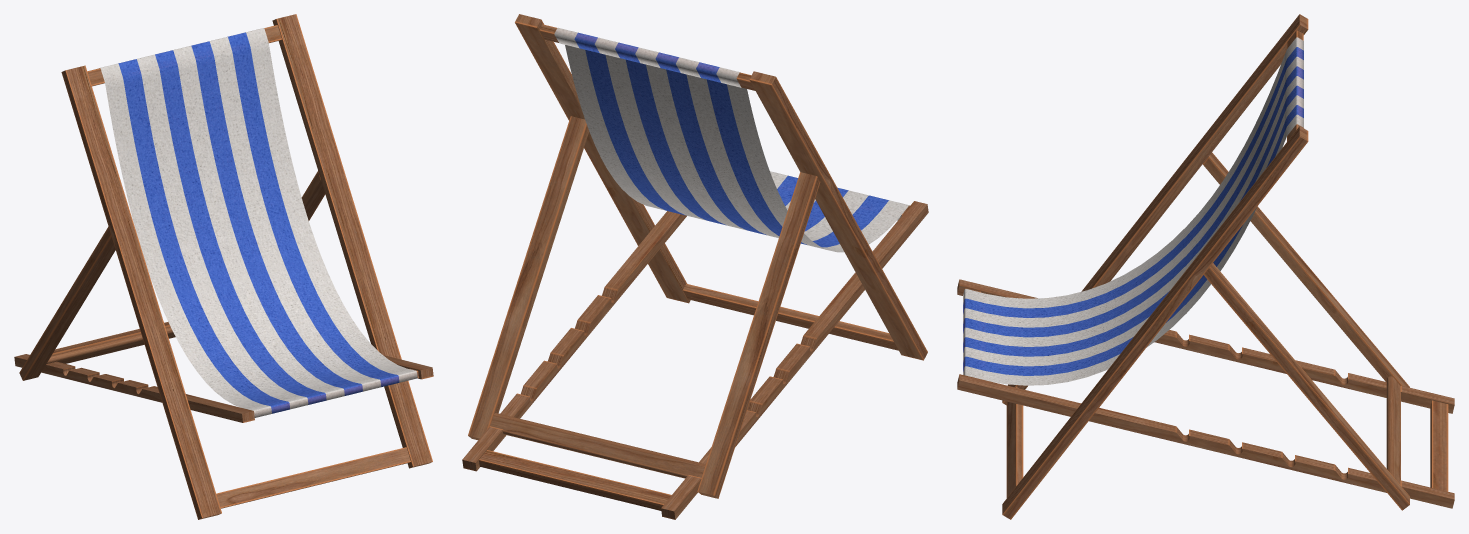
Rendered from Chair2.obj.
3 views of the same model, side by side, from view 1: azimuth 30°, elevation 25°; view 2: azimuth 150°, elevation 25°; view 3: azimuth 270°, elevation 25° (orthographic). The views are drawn at different scales.
Parts seen in each view (by area): view 1: Plane_Color3_0, Cube.001_Color3_0, Cube.006_Color3_0, Cube.004_Color3_0, Cube_Color3_0, Cylinder_Color3_0, Cube.005_Color3_0; view 2: Plane_Color3_0, Cube.006_Color3_0, Cube.001_Color3_0, Cube.004_Color3_0, Cylinder_Color3_0, Cube.005_Color3_0, Cube_Color3_0; view 3: Plane_Color3_0, Cube.001_Color3_0, Cube.004_Color3_0, Cube.006_Color3_0, Cube.005_Color3_0, Cube_Color3_0, Cylinder_Color3_0.
Boxes of the visible parts, box(x1,y1,x2,y2) form: Plane_Color3_0: box(99, 28, 417, 417); Cube.001_Color3_0: box(61, 14, 432, 519); Cube.006_Color3_0: box(19, 171, 325, 380); Cube.004_Color3_0: box(14, 354, 433, 422); Cube_Color3_0: box(216, 447, 410, 508); Cylinder_Color3_0: box(46, 327, 175, 363); Cube.005_Color3_0: box(51, 322, 170, 355); Plane_Color3_0: box(554, 27, 909, 252); Cube.006_Color3_0: box(468, 116, 820, 498); Cube.001_Color3_0: box(515, 14, 927, 360); Cube.004_Color3_0: box(462, 201, 928, 519); Cylinder_Color3_0: box(490, 413, 705, 478); Cube.005_Color3_0: box(479, 450, 671, 510); Cube_Color3_0: box(683, 283, 898, 350); Plane_Color3_0: box(963, 37, 1303, 385); Cube.001_Color3_0: box(1002, 14, 1308, 519); Cube.004_Color3_0: box(957, 279, 1454, 508); Cube.006_Color3_0: box(1202, 152, 1409, 510); Cube.005_Color3_0: box(1430, 400, 1448, 491); Cube_Color3_0: box(1006, 387, 1023, 497); Cylinder_Color3_0: box(1386, 376, 1400, 484).
Size of the model in its own units: 0.7855 by 1.15 by 1.35.
Materials: 1 (1 with a texture image).
